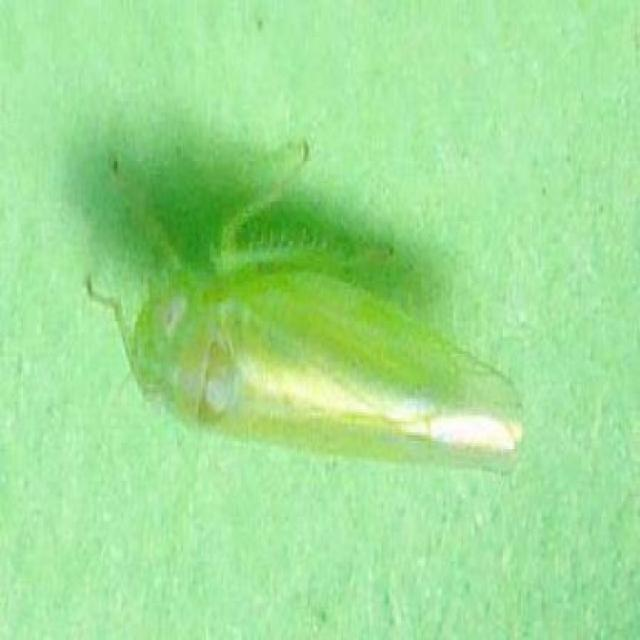green-leafhopper: (103, 228, 520, 482)
